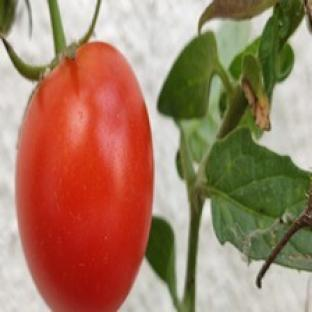Tomato: (16, 42, 153, 311)
